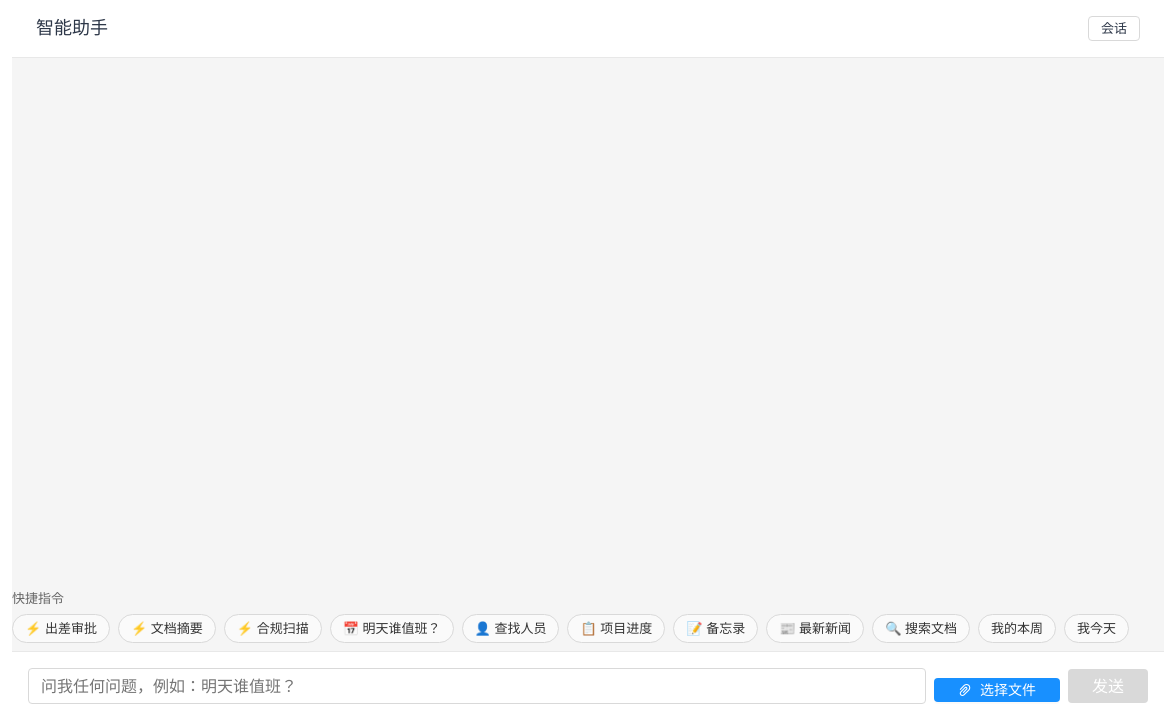
Test: SmartChatPage 额度提示条 › 正常时不显示;回答的 session 事件带 blocked → 显示
The width and height of the screenshot is (1164, 720).
Type "你好" into the field with placeholder "问我任何问题，例如：明天谁值班？" at (477, 686), box [28,668,926,704]
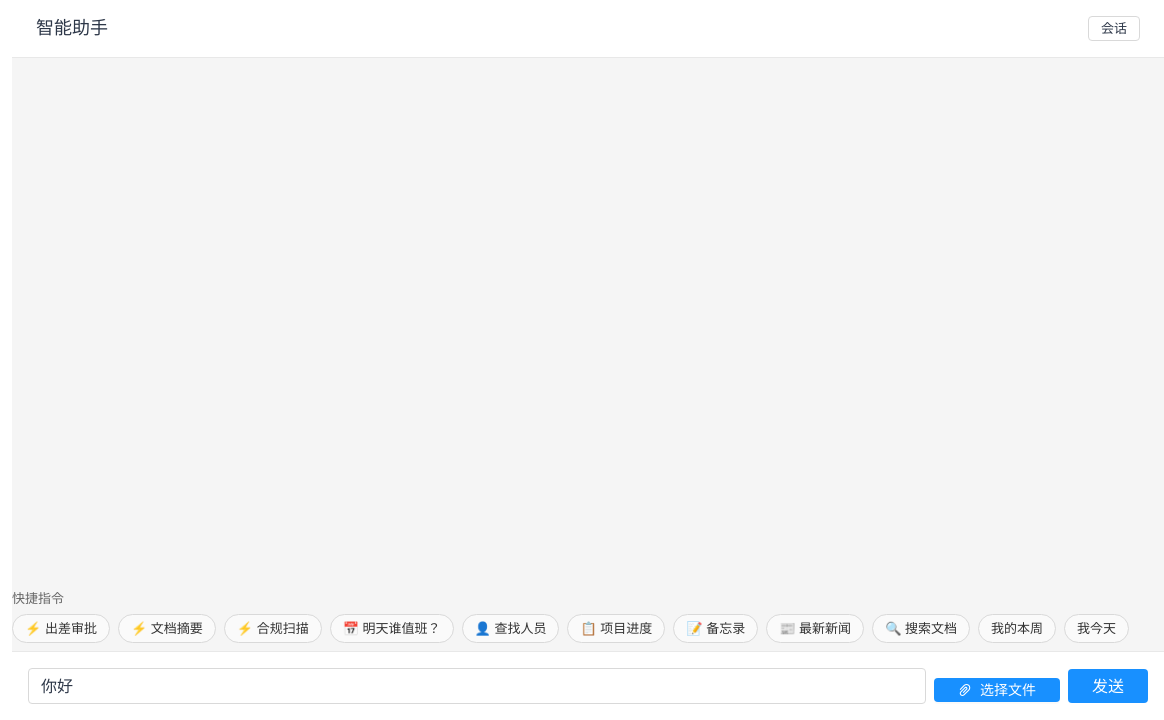
Click the button "发送" at (1108, 686), box [1068,669,1148,703]
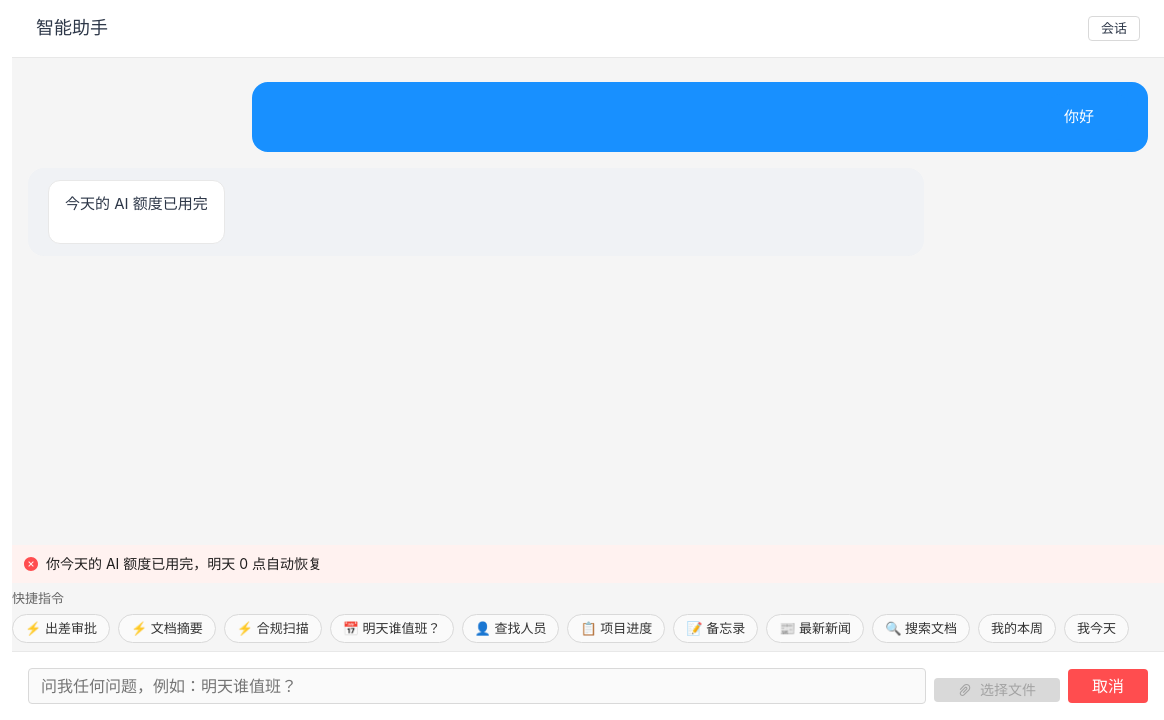
Result: the message with test id "budget-notice" shows "明天 0 点自动恢复" at [46,555,322,572]
